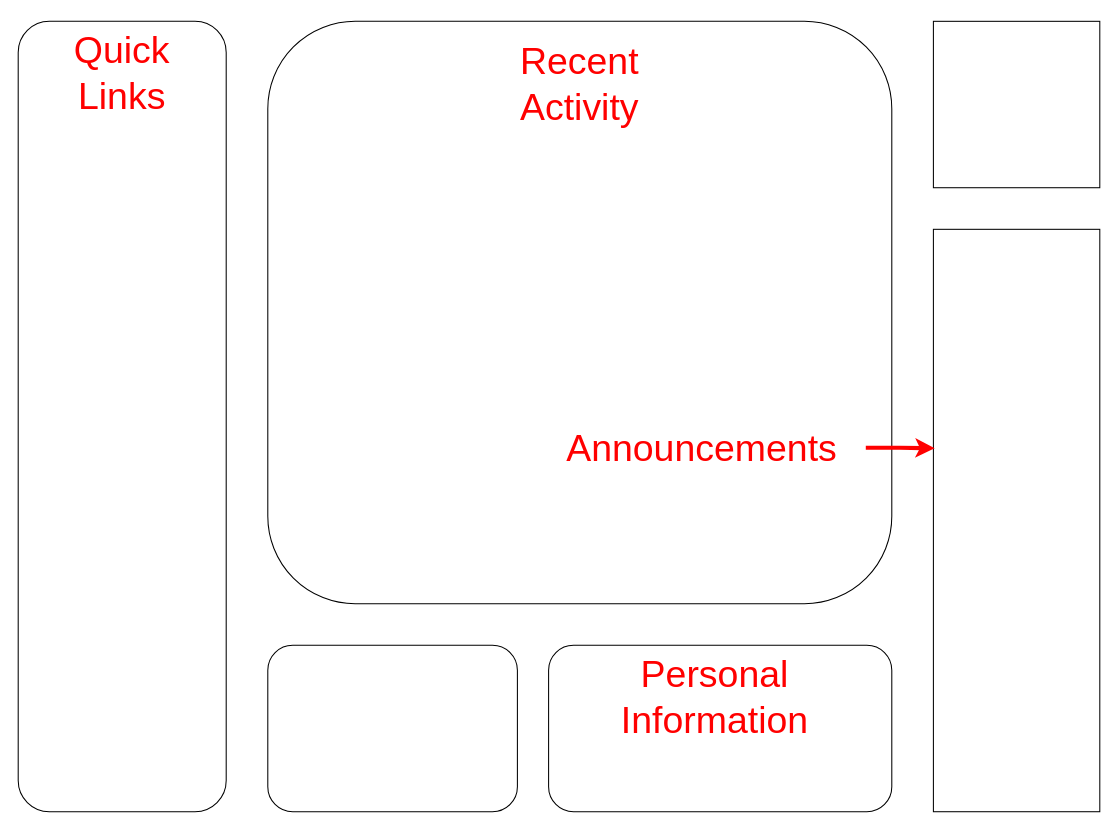
This 1119x830 diagram has some shape labels left out. Each missing label, with the box of its shape:
Class Scheduler: (932, 20, 1100, 188)
Finances: (267, 644, 517, 812)
